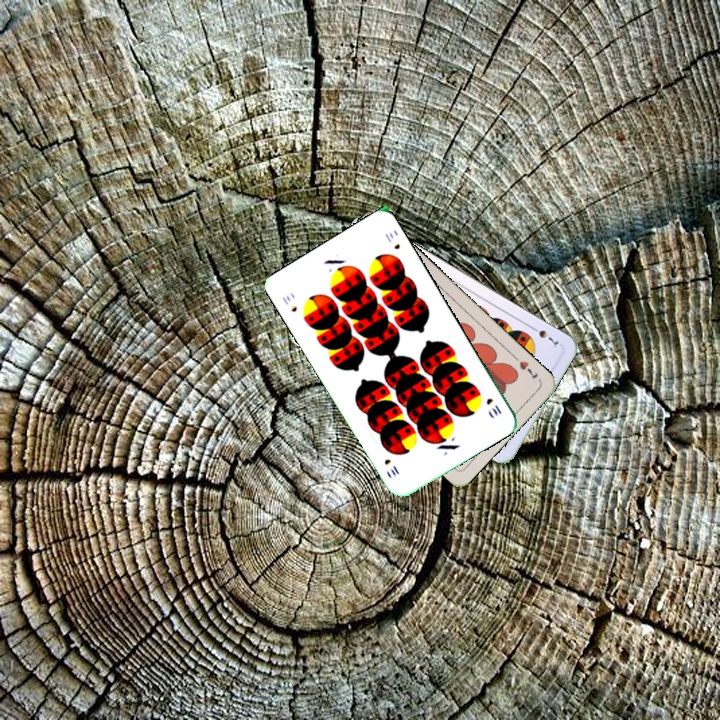H7: (510, 352, 541, 383)
S10: (482, 394, 504, 418), (278, 291, 300, 315)
S7: (526, 322, 561, 347)
